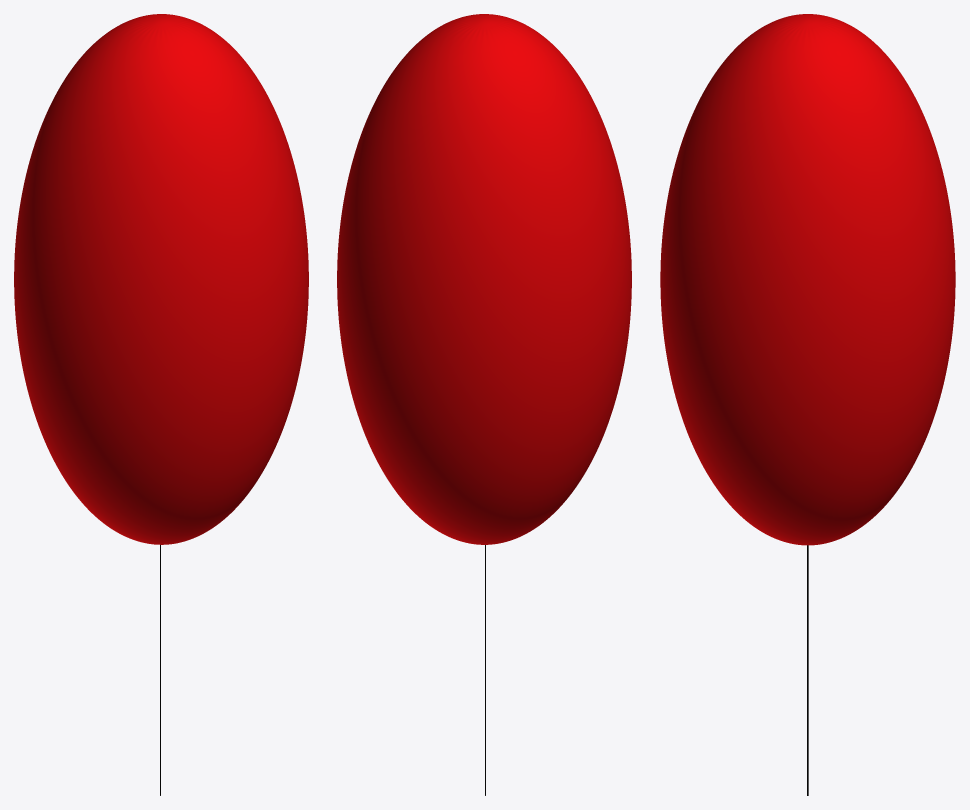
Rendered from balloon.glb.
The picture shows the model from 3 angles, left to right: view 1: azimuth 30°, elevation 25°; view 2: azimuth 150°, elevation 25°; view 3: azimuth 270°, elevation 25°; orthographic projection.
Parts seen in each view (by area): view 1: Sphere; view 2: Sphere; view 3: Sphere.
Boxes of the visible parts, box(x1,y1,x2,y2) form: Sphere: box(14, 14, 308, 544); Sphere: box(337, 14, 631, 544); Sphere: box(660, 14, 955, 545).
Bounding box in the file's own units: 2.07 × 6.01 × 2.07.
